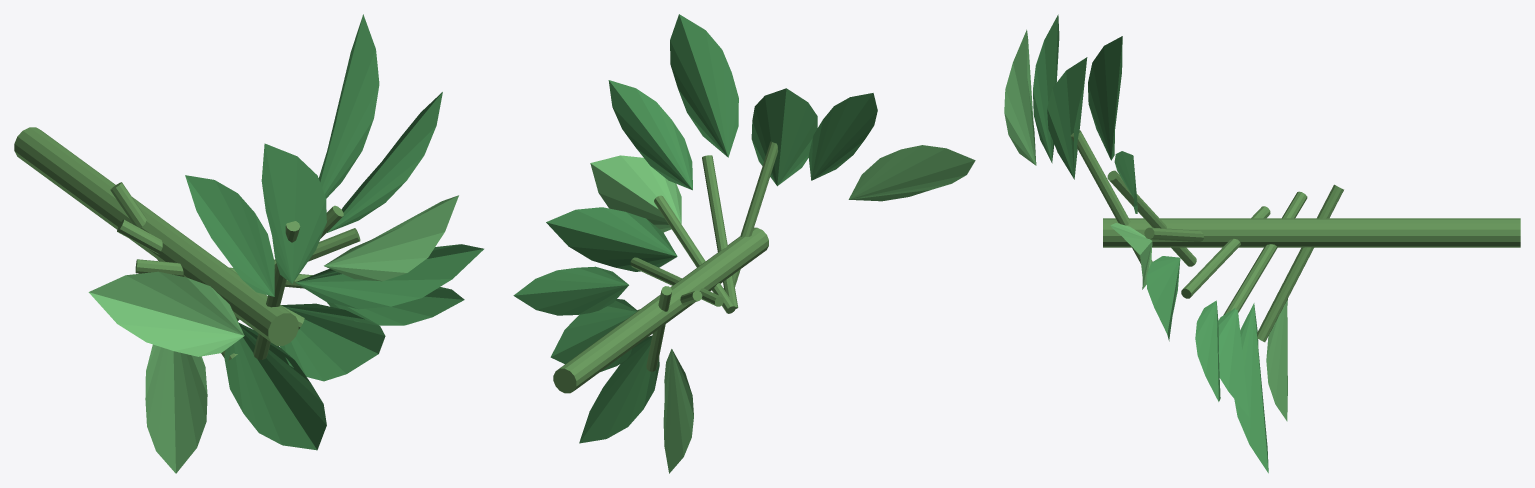
File: potato_haulm.glb
3 renders of one model, left to right at view 1: azimuth 30°, elevation 25°; view 2: azimuth 150°, elevation 25°; view 3: azimuth 270°, elevation 25°, orthographic. The views are drawn at different scales.
Visible parts, largest first — view 1: main_stem, leaf_10, leaf_1, leaf_0, leaf_8, leaf_9, leaf_2, leaf_4, leaf_7, leaf_5, leaf_6, leaf_3 (+5 smaller); view 2: main_stem, leaf_7, leaf_4, leaf_10, leaf_6, leaf_8, leaf_5, leaf_1, leaf_3, leaf_9, leaf_0, leaf_2 (+5 smaller); view 3: main_stem, leaf_8, leaf_7, leaf_1, leaf_10, leaf_9, leaf_2, leaf_0, leaf_4, leaf_3, branch_0, branch_1 (+6 smaller).
Part boxes in pixels (bbox=[...]): main_stem: bbox=[14, 127, 298, 345]; leaf_10: bbox=[88, 271, 244, 356]; leaf_1: bbox=[224, 322, 326, 450]; leaf_0: bbox=[145, 344, 207, 473]; leaf_8: bbox=[261, 143, 326, 283]; leaf_9: bbox=[185, 175, 274, 296]; leaf_2: bbox=[280, 303, 385, 381]; leaf_4: bbox=[295, 244, 483, 309]; leaf_7: bbox=[318, 14, 379, 198]; leaf_5: bbox=[324, 195, 458, 281]; leaf_6: bbox=[327, 92, 442, 232]; leaf_3: bbox=[327, 287, 464, 325]; main_stem: bbox=[553, 227, 768, 393]; leaf_7: bbox=[670, 14, 738, 157]; leaf_4: bbox=[546, 207, 677, 271]; leaf_10: bbox=[848, 145, 975, 201]; leaf_6: bbox=[608, 80, 692, 190]; leaf_8: bbox=[751, 88, 817, 186]; leaf_5: bbox=[590, 155, 681, 232]; leaf_1: bbox=[579, 335, 659, 443]; leaf_3: bbox=[513, 266, 628, 315]; leaf_9: bbox=[808, 93, 877, 180]; leaf_0: bbox=[663, 349, 693, 473]; leaf_2: bbox=[550, 299, 637, 371]; main_stem: bbox=[1103, 218, 1520, 247]; leaf_8: bbox=[1047, 57, 1087, 179]; leaf_7: bbox=[1088, 36, 1122, 160]; leaf_1: bbox=[1234, 303, 1268, 473]; leaf_10: bbox=[1004, 29, 1036, 165]; leaf_9: bbox=[1033, 14, 1059, 163]; leaf_2: bbox=[1218, 308, 1249, 416]; leaf_0: bbox=[1266, 299, 1287, 421]; leaf_4: bbox=[1146, 256, 1180, 341]; leaf_3: bbox=[1195, 300, 1220, 401]; branch_0: bbox=[1257, 184, 1343, 342]; branch_1: bbox=[1223, 191, 1307, 315].
Bounding box in the file's own units: 0.381 × 0.378 × 0.4204.
